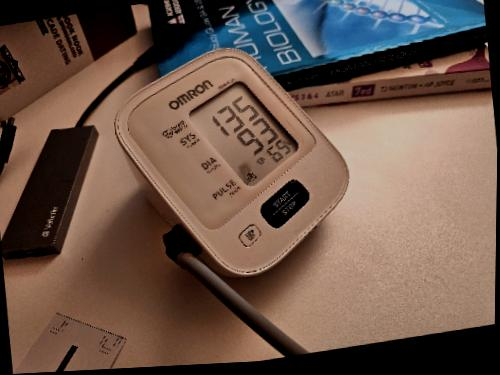bpm: (187, 68, 304, 190)
